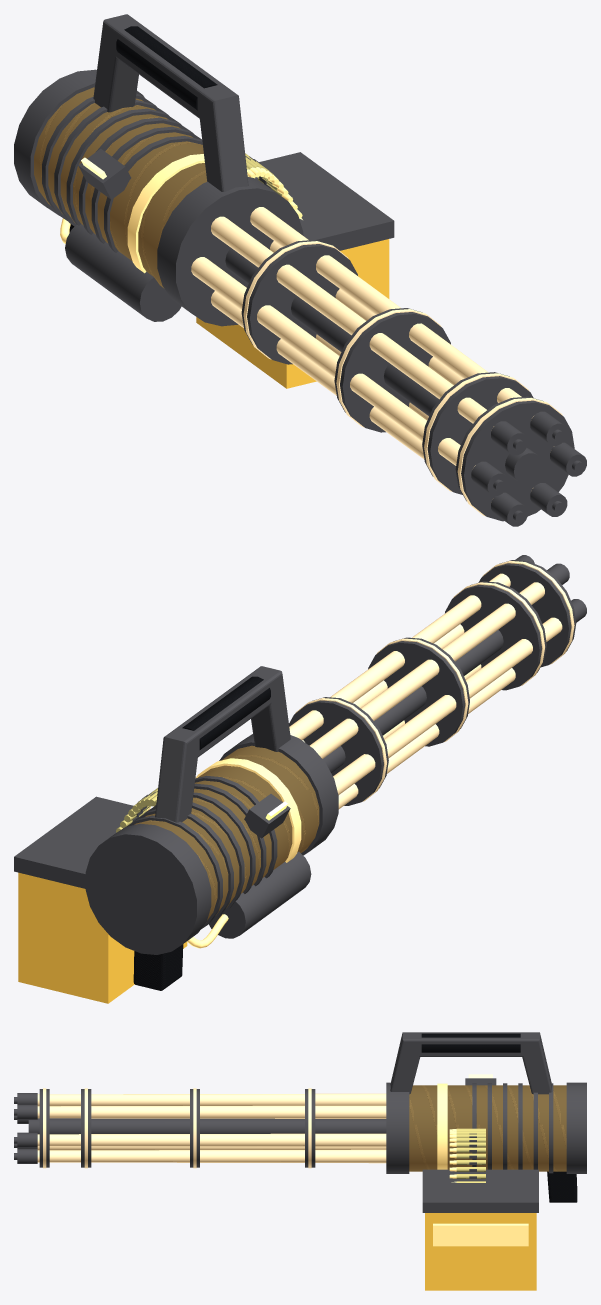
File: minigun_6barrel (1).glb
3 renders of one model, top to bottom at view 1: azimuth 30°, elevation 25°; view 2: azimuth 150°, elevation 25°; view 3: azimuth 270°, elevation 25°, orthographic. The views are drawn at different scales.
Parts seen in each view (by area): view 1: Minigun_Body_metalDark, Minigun_Barrels_metalDark, Minigun_Barrels_metalChrome, Minigun_Body_metalPrimary, Minigun_Ammo_metalDark, Minigun_Ammo_chassis, Minigun_Body_polymer, Minigun_Body_accent; view 2: Minigun_Body_metalDark, Minigun_Barrels_metalChrome, Minigun_Barrels_metalDark, Minigun_Ammo_chassis, Minigun_Body_metalPrimary, Minigun_Ammo_metalDark, Minigun_Body_polymer, Minigun_Body_accent; view 3: Minigun_Barrels_metalChrome, Minigun_Body_metalDark, Minigun_Body_metalPrimary, Minigun_Barrels_metalDark, Minigun_Ammo_chassis, Minigun_Ammo_metalDark, Minigun_Ammo_accent, Minigun_Body_polymer, Minigun_Ammo_brass, Minigun_Body_accent.
Part boxes in pixels (left/top/right/bottom): Minigun_Body_metalDark: left=14, top=14, right=303, bottom=326; Minigun_Barrels_metalDark: left=225, top=240, right=586, bottom=526; Minigun_Barrels_metalChrome: left=191, top=207, right=562, bottom=516; Minigun_Body_metalPrimary: left=34, top=87, right=206, bottom=288; Minigun_Ammo_metalDark: left=245, top=152, right=394, bottom=250; Minigun_Ammo_chassis: left=196, top=239, right=389, bottom=388; Minigun_Body_polymer: left=69, top=26, right=217, bottom=232; Minigun_Body_accent: left=60, top=154, right=248, bottom=273; Minigun_Body_metalDark: left=85, top=666, right=338, bottom=954; Minigun_Barrels_metalChrome: left=289, top=561, right=574, bottom=809; Minigun_Barrels_metalDark: left=289, top=555, right=586, bottom=805; Minigun_Ammo_chassis: left=18, top=872, right=187, bottom=1003; Minigun_Body_metalPrimary: left=134, top=745, right=319, bottom=920; Minigun_Ammo_metalDark: left=14, top=791, right=155, bottom=888; Minigun_Body_polymer: left=133, top=676, right=270, bottom=990; Minigun_Body_accent: left=186, top=758, right=301, bottom=948; Minigun_Barrels_metalChrome: left=37, top=1088, right=386, bottom=1168; Minigun_Body_metalDark: left=386, top=1032, right=586, bottom=1173; Minigun_Body_metalPrimary: left=409, top=1085, right=566, bottom=1171; Minigun_Barrels_metalDark: left=14, top=1089, right=386, bottom=1167; Minigun_Ammo_chassis: left=425, top=1213, right=536, bottom=1290; Minigun_Ammo_metalDark: left=422, top=1133, right=538, bottom=1212; Minigun_Ammo_accent: left=433, top=1129, right=528, bottom=1246; Minigun_Body_polymer: left=421, top=1033, right=577, bottom=1202; Minigun_Ammo_brass: left=456, top=1128, right=485, bottom=1182; Minigun_Body_accent: left=437, top=1083, right=447, bottom=1169.
Bounding box in the file's own units: 0.2904 × 0.3475 × 0.896.
Materials: 8 (2 with a texture image).
